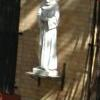Statue: (32, 0, 67, 89)
